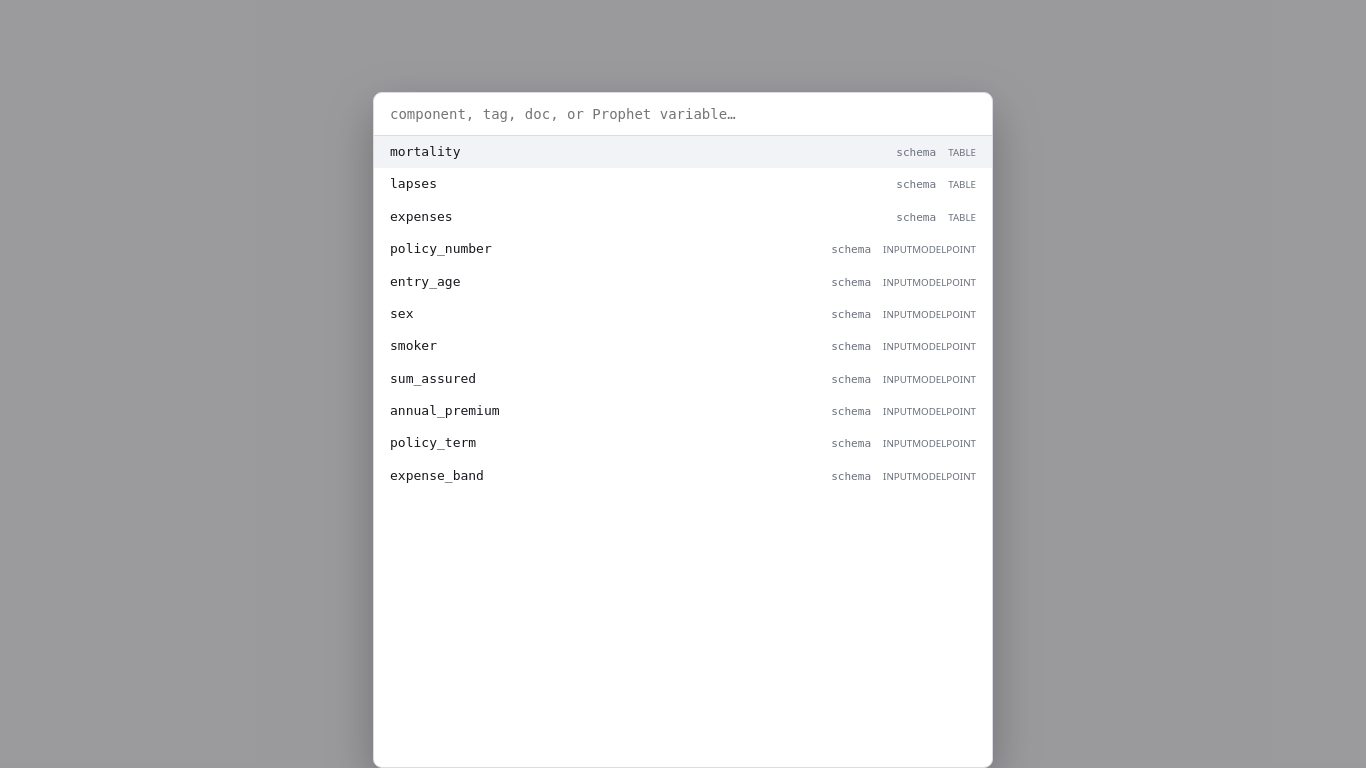
Test: Palette, standalone › says so when nothing matches
This screenshot has width=1366, height=768.
Type "zzzzz" into the field named "search components" at (683, 114), box 374,93 -> 992,136
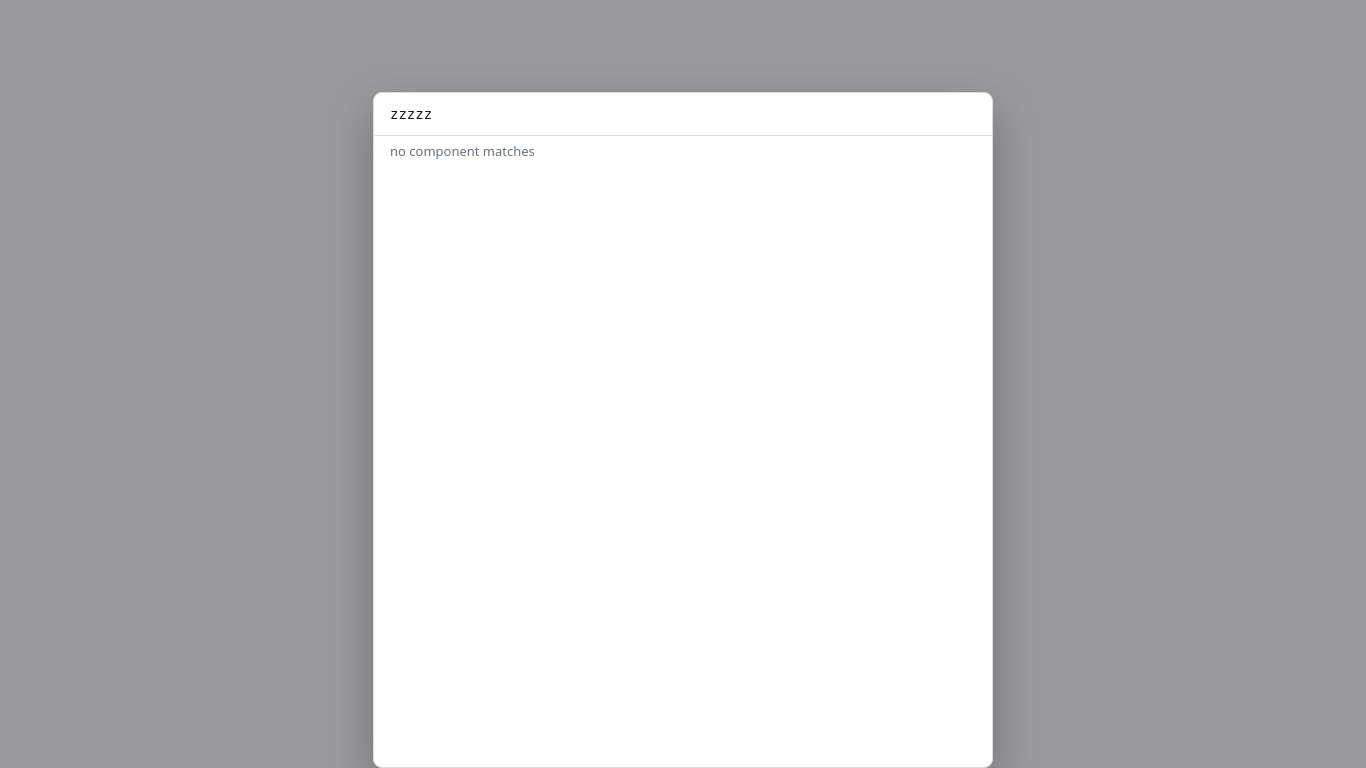
Expected: the list item "no component matches" is shown, 390,142 -> 535,160
